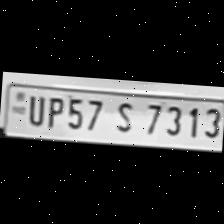1: (182, 102, 201, 137)
3: (160, 100, 184, 136), (199, 103, 222, 139)
5: (62, 95, 84, 131)
7: (138, 99, 163, 136), (82, 96, 106, 132)
P: (42, 93, 64, 129)
S: (108, 96, 138, 134)
U: (22, 91, 46, 126)
